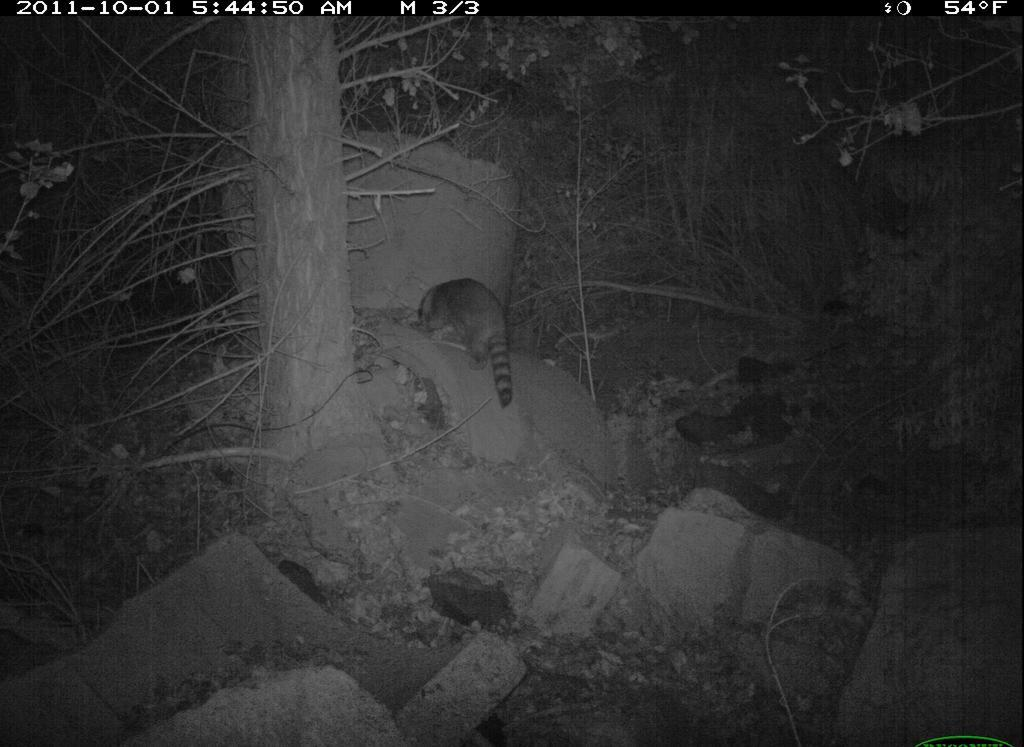raccoon: (411, 269, 538, 404)
